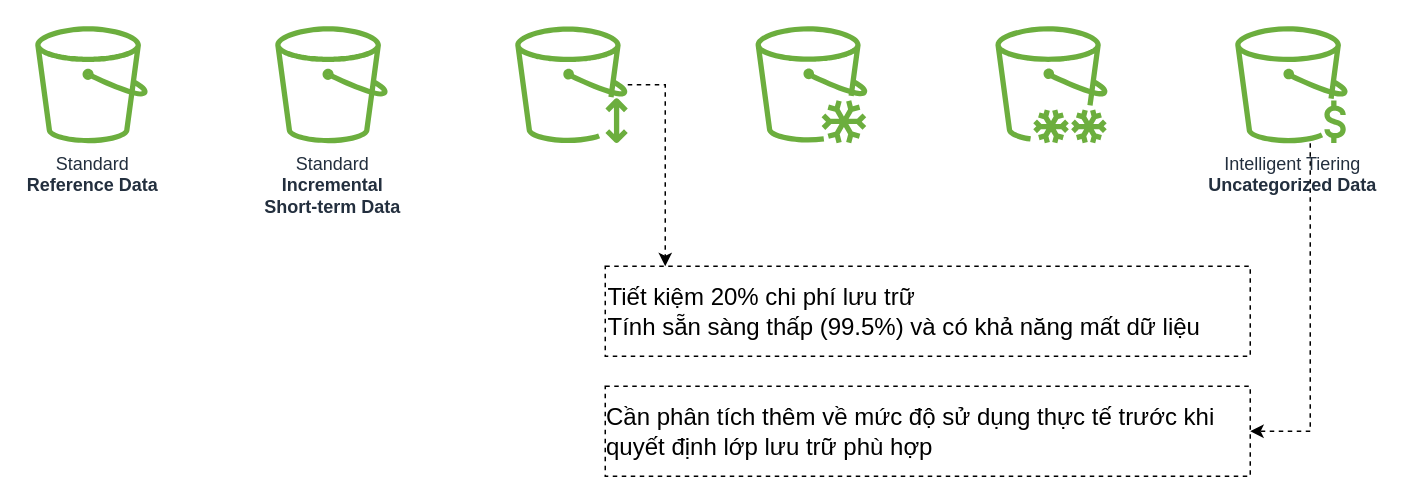
This 1401x503 diagram has some shape labels left out. The centre of each missing label's shape, as x and y in pixels:
"Glacier Deep Archive Incremental Archive Data" belongs at (1050,84).
"Glacier Incremental Long-term Data" belongs at (810,84).
"Standard IA Incremental Medium-term Data" belongs at (570,84).
